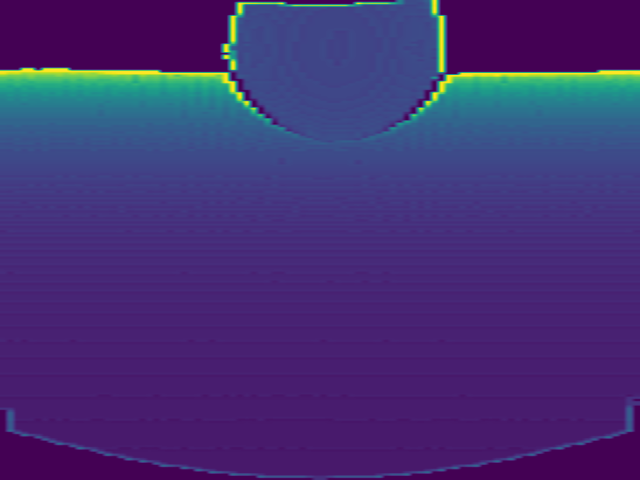sphere: (220, 1, 447, 142)
